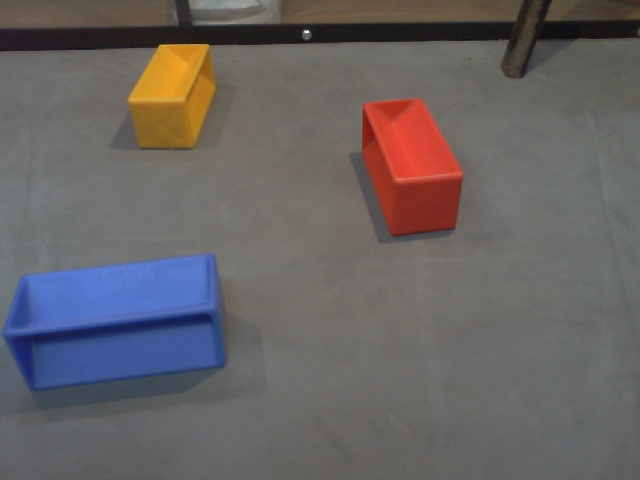BlueSample: (1, 252, 231, 393)
RedSample: (353, 93, 469, 245)
YellowSample: (126, 39, 216, 152)
